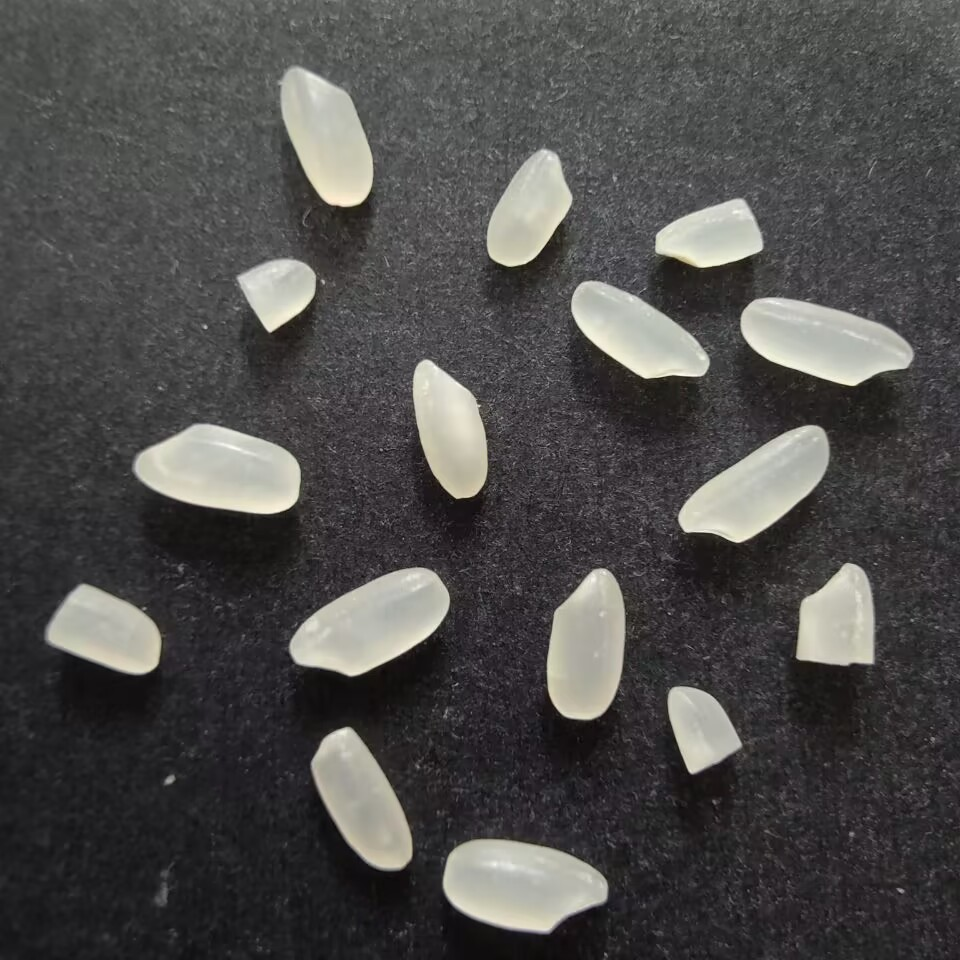broken: (40, 581, 163, 679), (789, 559, 879, 670), (652, 197, 766, 268), (663, 684, 744, 778), (232, 255, 318, 341)
rice: (286, 562, 453, 682), (673, 422, 832, 547), (440, 836, 613, 936), (128, 419, 301, 518), (739, 294, 919, 389), (309, 724, 417, 877), (275, 63, 379, 214), (569, 279, 716, 383), (543, 565, 627, 729), (407, 356, 491, 503), (482, 144, 577, 268)
